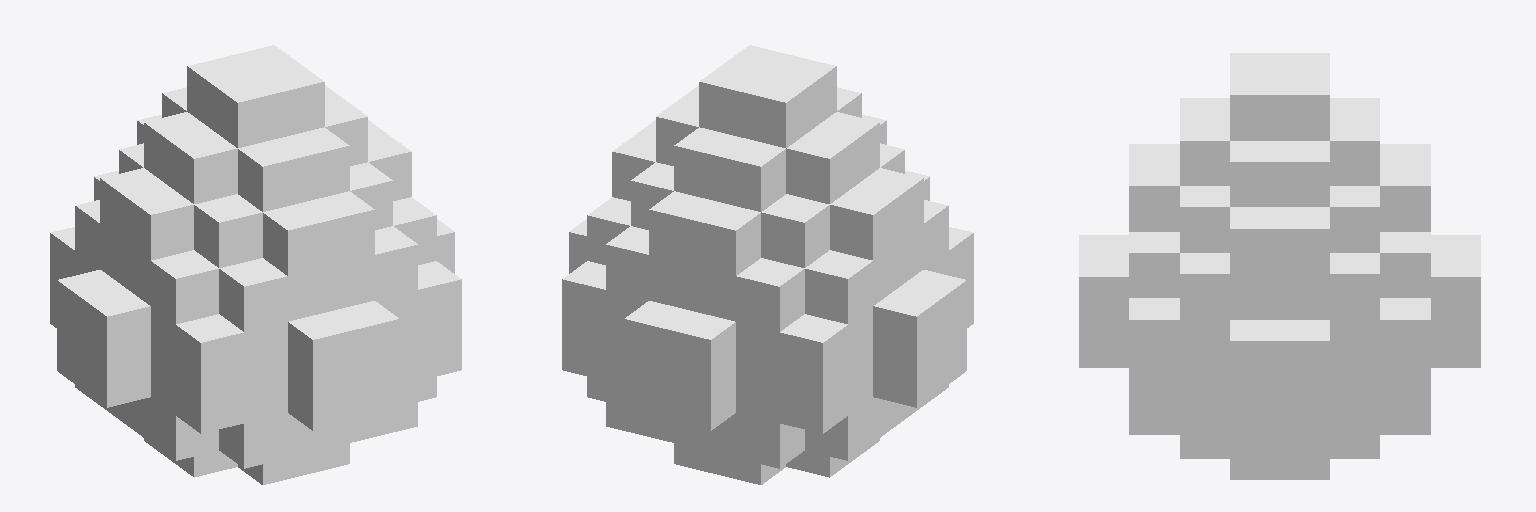
File: eggingredient.obj
3 views of the same model, side by side, from view 1: azimuth 30°, elevation 25°; view 2: azimuth 150°, elevation 25°; view 3: azimuth 270°, elevation 25° (orthographic).
Parts seen in each view (by area): view 1: object 1; view 2: object 1; view 3: object 1.
Boxes of the visible parts, <box> form: object 1: <box>50,45,461,484</box>; object 1: <box>562,45,973,484</box>; object 1: <box>1079,53,1480,479</box>.
Size of the model in its own units: 0.8 by 0.8 by 0.8.